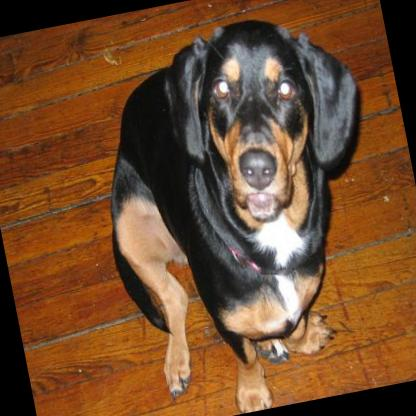Rottweiler: (73, 1, 412, 416)
